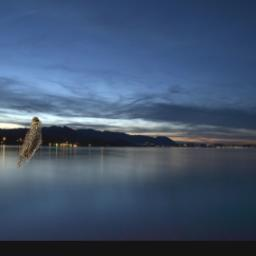Sparrow: (17, 117, 43, 169)
